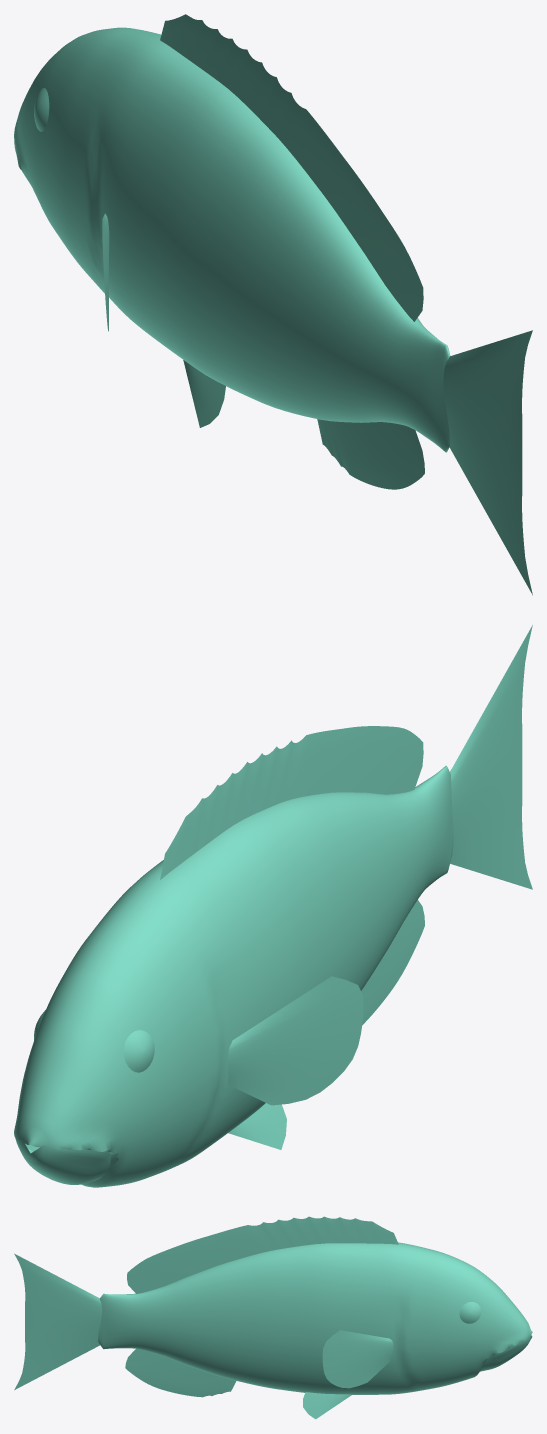
File: parrotfish.glb
3 renders of one model, top to bottom at view 1: azimuth 30°, elevation 25°; view 2: azimuth 150°, elevation 25°; view 3: azimuth 270°, elevation 25°, orthographic. The views are drawn at different scales.
Visible parts, largest first — view 1: parrotfish; view 2: parrotfish; view 3: parrotfish.
Boxes of the visible parts, left/top/right/bottom form: parrotfish: left=14, top=14, right=532, bottom=595; parrotfish: left=14, top=625, right=532, bottom=1187; parrotfish: left=14, top=1216, right=532, bottom=1419.
Bounding box in the file's own units: 0.1484 × 0.204 × 0.4976.
